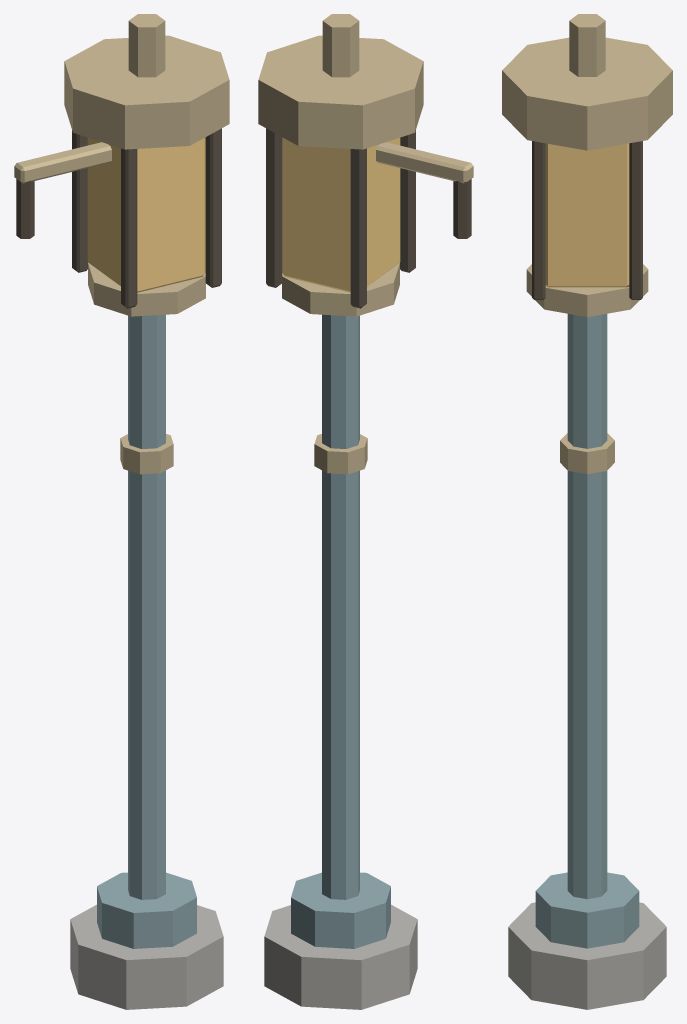
The model's file is lantern-post.glb.
The picture shows the model from 3 angles, left to right: view 1: azimuth 30°, elevation 25°; view 2: azimuth 150°, elevation 25°; view 3: azimuth 270°, elevation 25°; orthographic projection.
Parts seen in each view (by area): view 1: lantern_shaft, lantern_cap, lantern_glass, lantern_base, lantern_collar, lantern_head_floor, lantern_cage_post, lantern_cage_post.001, lantern_finial, lantern_arm, lantern_cage_post.002, lantern_shaft_ring (+1 smaller); view 2: lantern_shaft, lantern_cap, lantern_glass, lantern_base, lantern_collar, lantern_head_floor, lantern_cage_post.002, lantern_cage_post.003, lantern_finial, lantern_arm, lantern_cage_post, lantern_shaft_ring (+1 smaller); view 3: lantern_shaft, lantern_cap, lantern_glass, lantern_base, lantern_collar, lantern_head_floor, lantern_finial, lantern_cage_post.001, lantern_cage_post.003, lantern_shaft_ring.
Part boxes in pixels (bbox=[...]): lantern_shaft: bbox=[128, 314, 165, 899]; lantern_cap: bbox=[64, 35, 229, 149]; lantern_glass: bbox=[87, 137, 205, 292]; lantern_base: bbox=[70, 904, 223, 1009]; lantern_collar: bbox=[97, 872, 196, 948]; lantern_head_floor: bbox=[88, 263, 205, 316]; lantern_cage_post: bbox=[121, 148, 137, 308]; lantern_cage_post.001: bbox=[205, 128, 221, 287]; lantern_finial: bbox=[128, 14, 165, 77]; lantern_arm: bbox=[14, 142, 111, 183]; lantern_cage_post.002: bbox=[72, 130, 87, 272]; lantern_shaft_ring: bbox=[120, 434, 173, 474]; lantern_shaft: bbox=[322, 314, 359, 899]; lantern_cap: bbox=[258, 35, 423, 149]; lantern_glass: bbox=[282, 137, 400, 292]; lantern_base: bbox=[264, 904, 417, 1009]; lantern_collar: bbox=[291, 872, 390, 948]; lantern_head_floor: bbox=[282, 263, 399, 316]; lantern_cage_post.002: bbox=[350, 148, 366, 308]; lantern_cage_post.003: bbox=[266, 128, 282, 287]; lantern_finial: bbox=[322, 14, 359, 77]; lantern_arm: bbox=[376, 142, 473, 183]; lantern_cage_post: bbox=[400, 130, 415, 272]; lantern_shaft_ring: bbox=[314, 434, 367, 474]; lantern_shaft: bbox=[567, 314, 607, 899]; lantern_cap: bbox=[502, 37, 672, 150]; lantern_glass: bbox=[545, 143, 629, 287]; lantern_base: bbox=[508, 902, 666, 1009]; lantern_collar: bbox=[535, 872, 639, 948]; lantern_head_floor: bbox=[526, 264, 648, 316]; lantern_finial: bbox=[569, 14, 605, 76]; lantern_cage_post.001: bbox=[532, 141, 545, 299]; lantern_cage_post.003: bbox=[629, 141, 642, 299]; lantern_shaft_ring: bbox=[560, 433, 614, 474].
Size of the model in its own units: 0.77 by 3.46 by 0.56.
